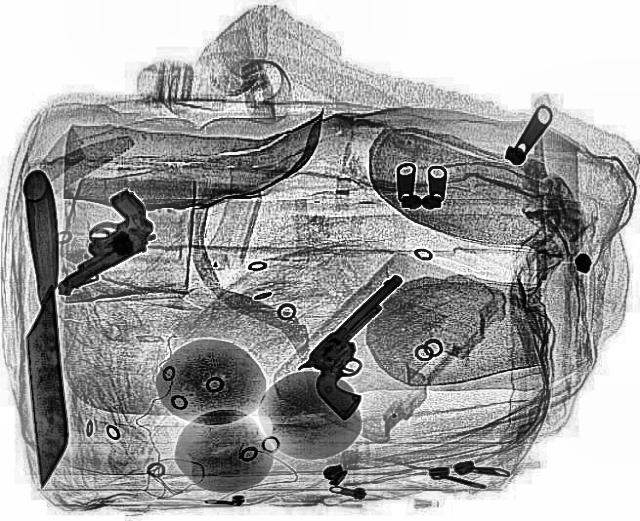Gun: (278, 272, 460, 420), (22, 187, 175, 291)
Knife: (18, 170, 68, 488)
